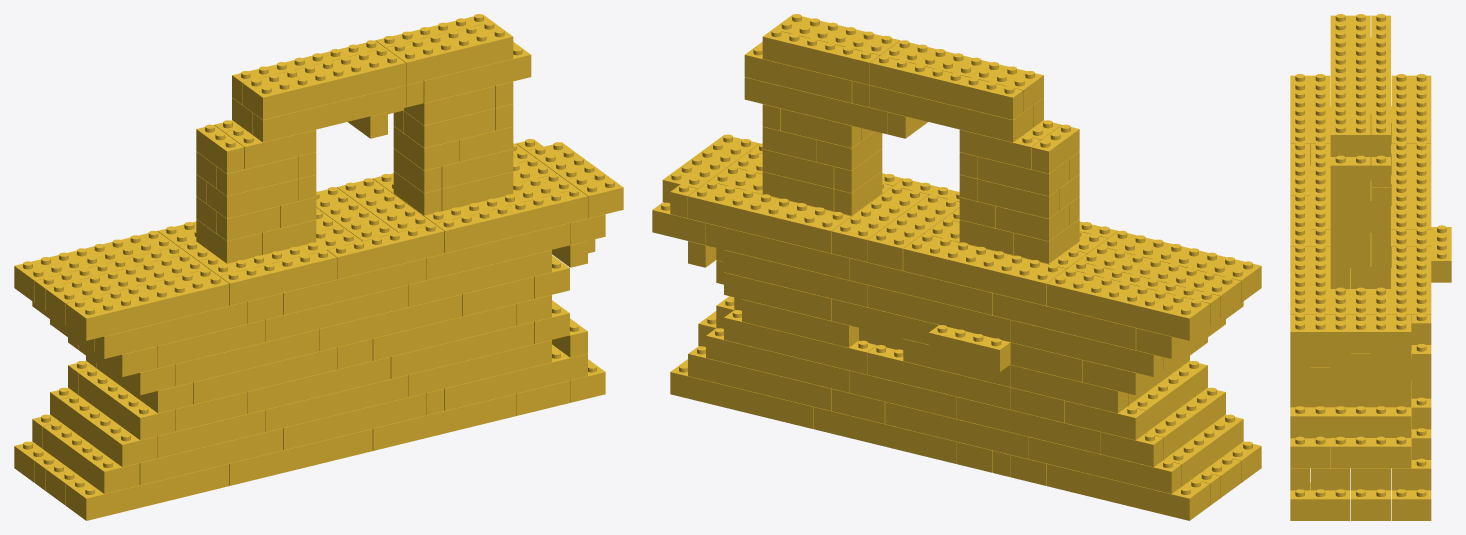
3 renders of one model, left to right at view 1: azimuth 30°, elevation 25°; view 2: azimuth 150°, elevation 25°; view 3: azimuth 270°, elevation 25°, orthographic. The views are drawn at different scales.
Visible parts, largest first — view 1: guitar_L1_P1_G; view 2: guitar_L1_P1_G; view 3: guitar_L1_P1_G.
Boxes of the visible parts, box(x1,y1,x2,y2) form: guitar_L1_P1_G: box(14, 14, 623, 520); guitar_L1_P1_G: box(652, 14, 1261, 520); guitar_L1_P1_G: box(1290, 14, 1451, 520).
Bounding box in the file's own units: 29.97 × 19.39 × 7.97.
